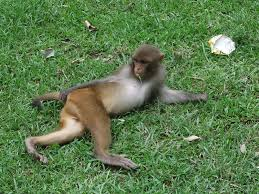monkey: (20, 28, 222, 194)
